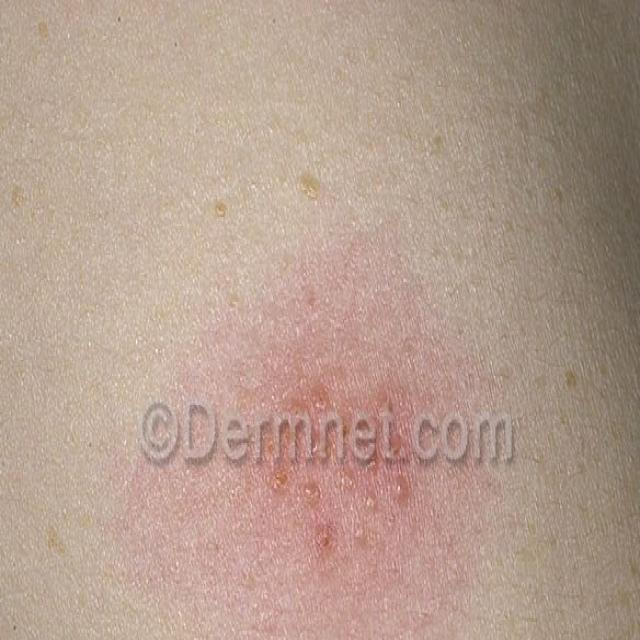Viral Infections: (178, 326, 448, 588)
